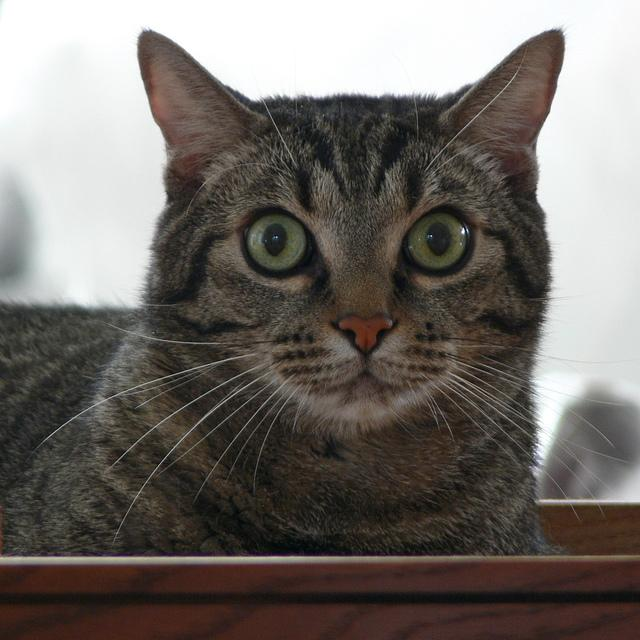animals: (142, 28, 559, 349)
